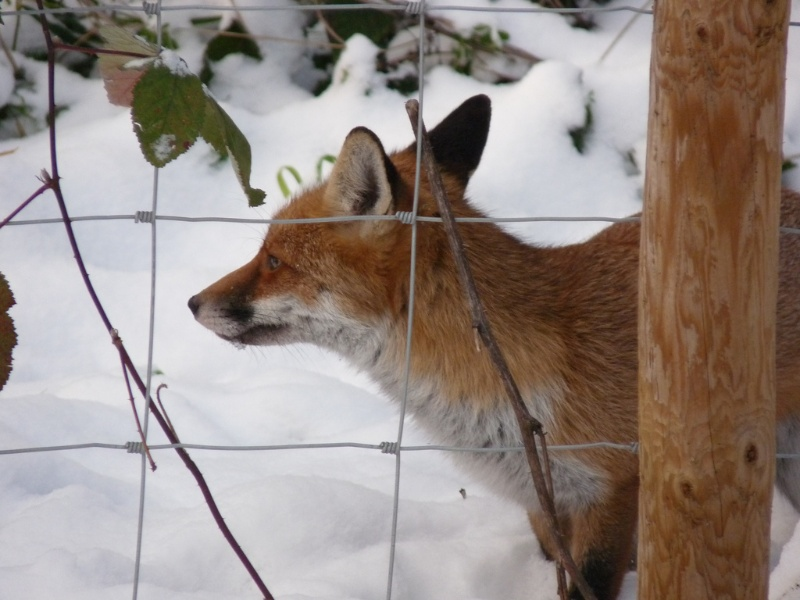fox: (187, 91, 635, 600)
